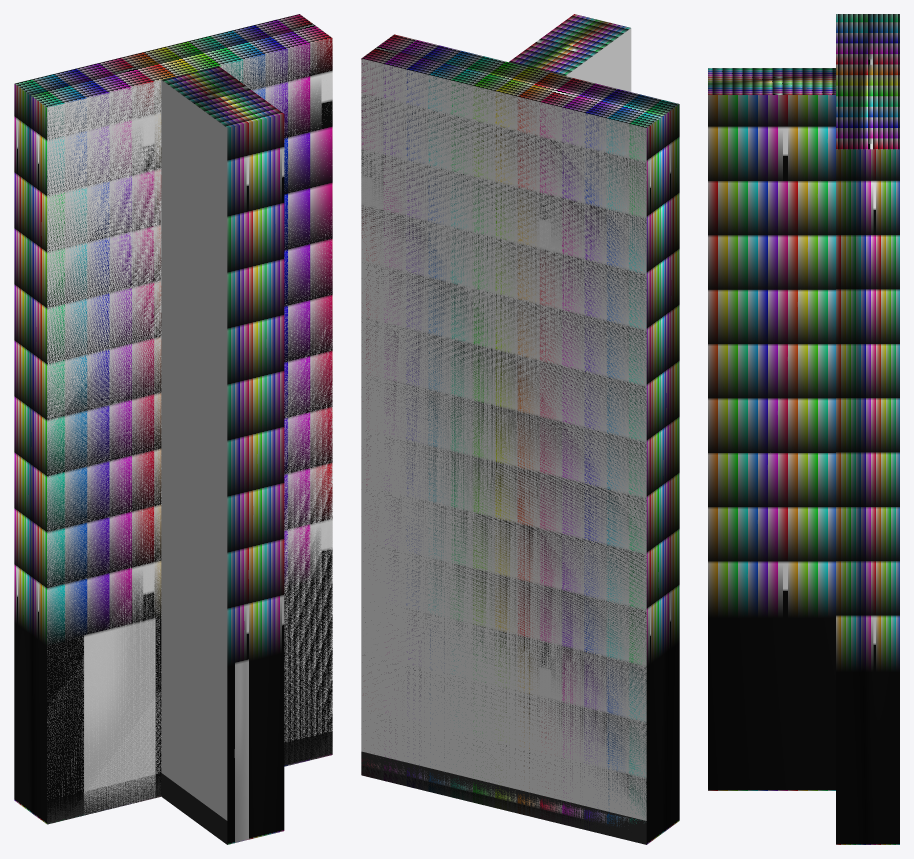
The model's file is interiorWall_T_1x1_white.fbx.
3 views of the same model, side by side, from view 1: azimuth 30°, elevation 25°; view 2: azimuth 150°, elevation 25°; view 3: azimuth 270°, elevation 25° (orthographic). The views are drawn at different scales.
Visible parts, largest first — view 1: interiorWall_T_1x1_trigger_2_white, interiorWall_T_1x1_white, interiorWall_T_1x1_trigger_1_white; view 2: interiorWall_T_1x1_white, interiorWall_T_1x1_trigger_2_white, interiorWall_T_1x1_trigger_1_white; view 3: interiorWall_T_1x1_trigger_1_white, interiorWall_T_1x1_trigger_2_white.
Part boxes in pixels (x1,y1,x2,y2): interiorWall_T_1x1_trigger_2_white: [14, 14, 332, 824]; interiorWall_T_1x1_white: [47, 39, 332, 844]; interiorWall_T_1x1_trigger_1_white: [162, 66, 284, 844]; interiorWall_T_1x1_white: [361, 28, 646, 844]; interiorWall_T_1x1_trigger_2_white: [361, 34, 679, 844]; interiorWall_T_1x1_trigger_1_white: [509, 14, 630, 75]; interiorWall_T_1x1_trigger_1_white: [708, 68, 835, 790]; interiorWall_T_1x1_trigger_2_white: [836, 14, 899, 844].
Size of what is drawn, in the model's own units: 125 by 300 by 75.
